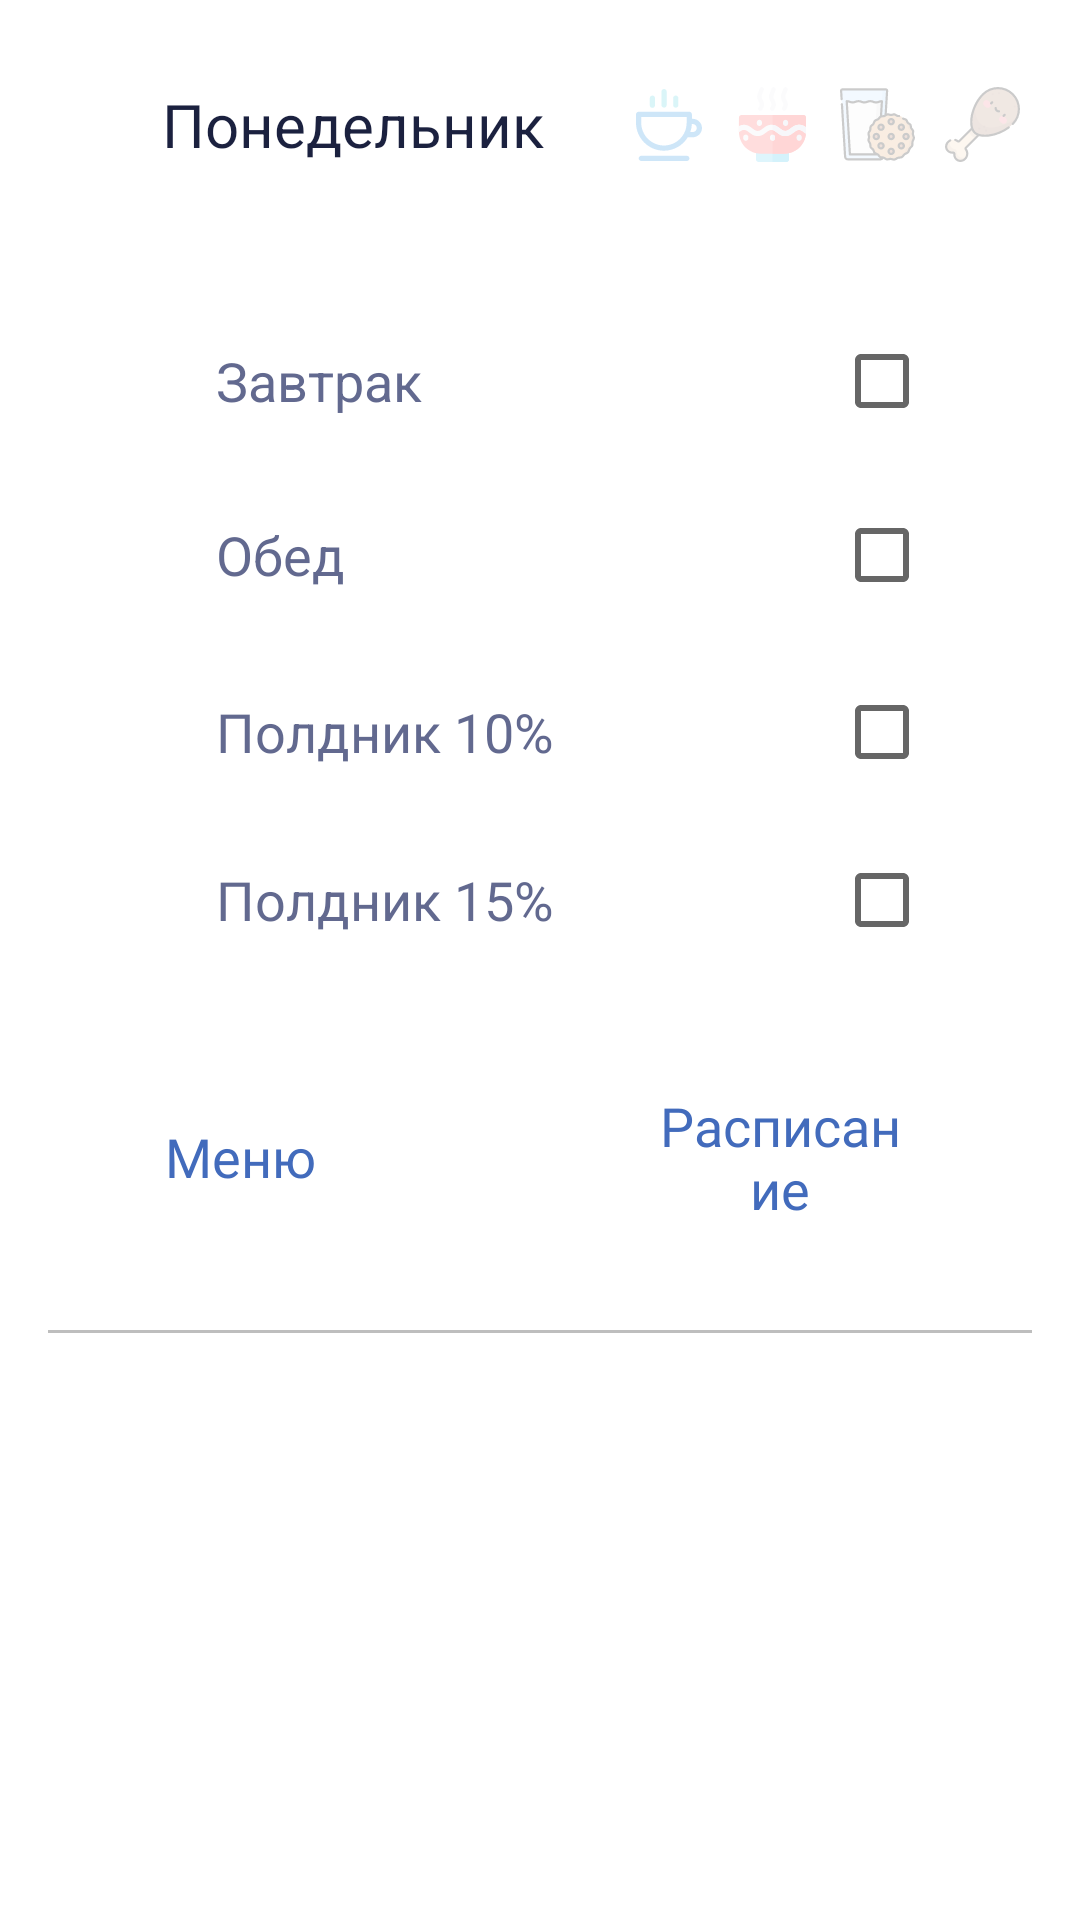

Locate icon controls on the screen. Image size 1080px x 1920px, boxes as {"left": x1, "top": y1, "right": x2, "bottom": y2}.
breakfast: {"left": 636, "top": 89, "right": 702, "bottom": 161}
lunch: {"left": 739, "top": 115, "right": 806, "bottom": 162}
snack: {"left": 840, "top": 88, "right": 915, "bottom": 161}
